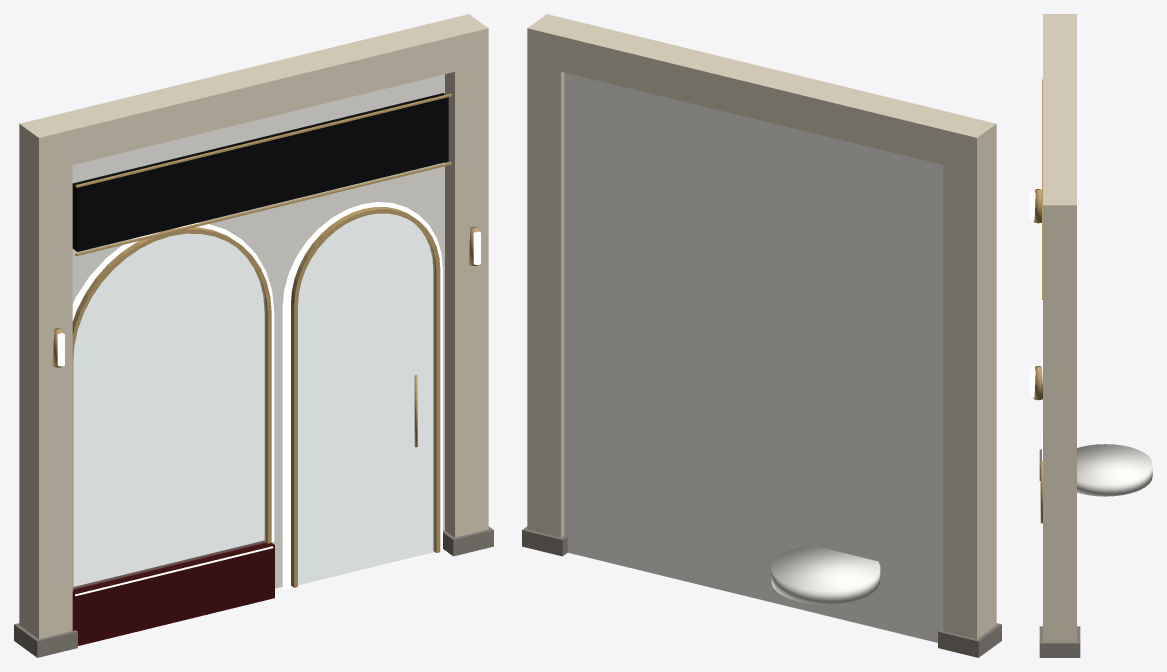
File: fraul_facade.glb
The picture shows the model from 3 angles, left to right: view 1: azimuth 30°, elevation 25°; view 2: azimuth 150°, elevation 25°; view 3: azimuth 270°, elevation 25°; orthographic projection. The views are drawn at different scales.
Visible parts, largest first — view 1: Fac_Pierre, Fac_Vitrine_Halo, Fac_Vitrine_Verre, Fac_Porte_Halo, Fac_Porte_Verre, Fac_Bandeau_Marque, Fac_Mur_Fond_Vitrine, Fac_Soubassement, Fac_Porte_Cadre, Fac_Vitrine_Cadre, Fac_Bandeau_Filets, Fac_Bases; view 2: Fac_Mur_Fond_Vitrine, Fac_Pierre, Fac_Podium, Fac_Bases; view 3: Fac_Pierre, Fac_Podium, Fac_Bases, Fac_Applique_1, Fac_Applique_-1, Fac_Bandeau_Filets.
Boxes of the visible parts, <box> form: Fac_Pierre: <box>19,14,488,638</box>; Fac_Vitrine_Halo: <box>72,223,274,586</box>; Fac_Vitrine_Verre: <box>73,234,265,589</box>; Fac_Porte_Halo: <box>282,202,442,589</box>; Fac_Porte_Verre: <box>298,214,434,585</box>; Fac_Bandeau_Marque: <box>72,93,448,251</box>; Fac_Mur_Fond_Vitrine: <box>72,74,444,588</box>; Fac_Soubassement: <box>72,540,274,645</box>; Fac_Porte_Cadre: <box>291,207,440,587</box>; Fac_Vitrine_Cadre: <box>72,227,271,590</box>; Fac_Bandeau_Filets: <box>75,93,451,255</box>; Fac_Bases: <box>14,526,493,657</box>; Fac_Mur_Fond_Vitrine: <box>564,72,943,642</box>; Fac_Pierre: <box>527,14,996,638</box>; Fac_Podium: <box>771,545,880,604</box>; Fac_Bases: <box>522,526,1001,657</box>; Fac_Pierre: <box>1043,14,1076,642</box>; Fac_Podium: <box>1077,444,1152,496</box>; Fac_Bases: <box>1039,449,1080,657</box>; Fac_Applique_1: <box>1033,366,1042,400</box>; Fac_Applique_-1: <box>1033,189,1041,223</box>; Fac_Bandeau_Filets: <box>1042,79,1042,299</box>.
Bounding box in the file's own units: 4.06 × 4.41 × 1.08.
